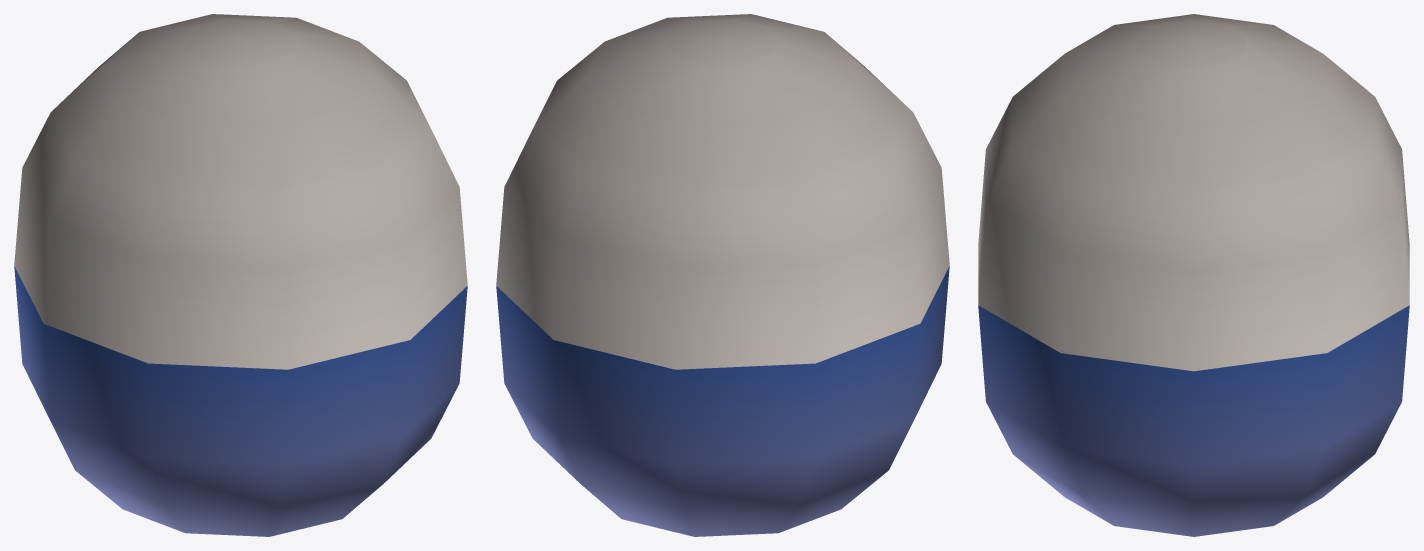
The model's file is lowlanjn_niudan_Geo.fbx.
3 views of the same model, side by side, from view 1: azimuth 30°, elevation 25°; view 2: azimuth 150°, elevation 25°; view 3: azimuth 270°, elevation 25° (orthographic).
Parts seen in each view (by area): view 1: lowlanjn_niudan_Geo; view 2: lowlanjn_niudan_Geo; view 3: lowlanjn_niudan_Geo.
Part boxes in pixels (bbox=[...]): lowlanjn_niudan_Geo: bbox=[14, 14, 467, 536]; lowlanjn_niudan_Geo: bbox=[496, 14, 949, 536]; lowlanjn_niudan_Geo: bbox=[978, 14, 1409, 536].
Size of the model in its own units: 15.25 by 17.55 by 14.51.
Materials: 1 (1 with a texture image).
